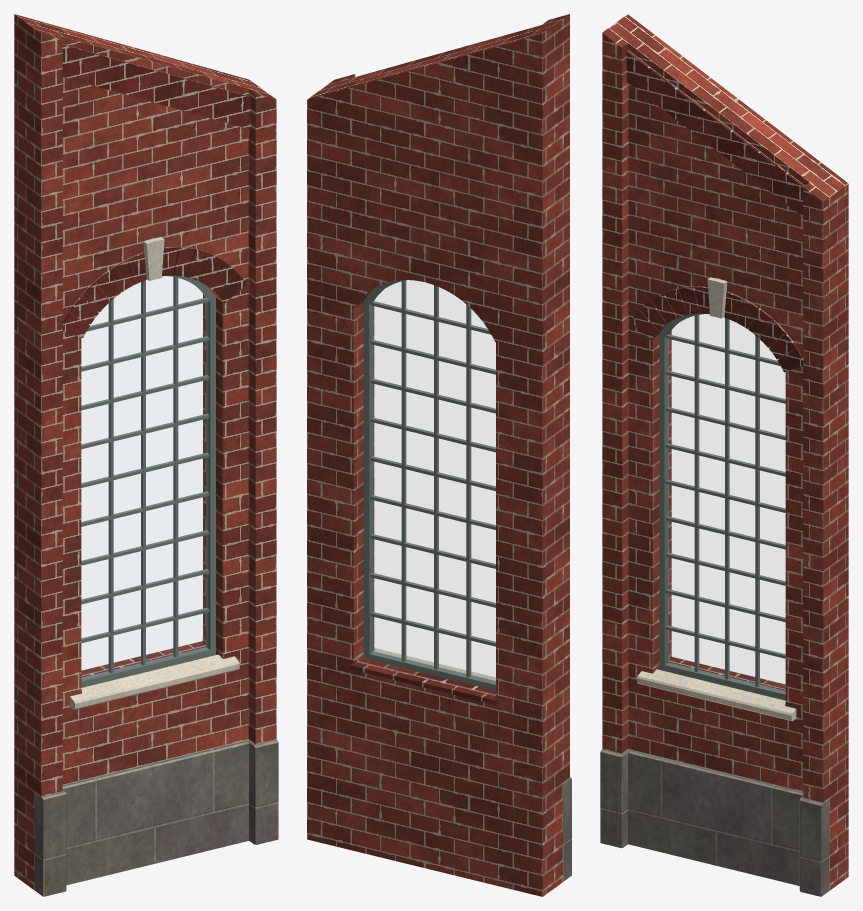
The model's file is h_side_window_r0.glb.
3 views of the same model, side by side, from view 1: azimuth 30°, elevation 25°; view 2: azimuth 150°, elevation 25°; view 3: azimuth 330°, elevation 25° (orthographic). The views are drawn at different scales.
Parts seen in each view (by area): view 1: h_side_window_r0_brick, folha_glass, h_side_window_r0_plinth, folha_wframe, h_side_window_r0_brick2, h_side_window_r0_trim; view 2: h_side_window_r0_brick, folha_glass, folha_wframe, h_side_window_r0_brick2, h_side_window_r0_plinth; view 3: h_side_window_r0_brick, folha_glass, h_side_window_r0_plinth, folha_wframe, h_side_window_r0_brick2, h_side_window_r0_trim.
Boxes of the visible parts, bbox=[...] form: h_side_window_r0_brick: bbox=[14, 14, 276, 890]; folha_glass: bbox=[82, 276, 207, 678]; h_side_window_r0_plinth: bbox=[34, 739, 278, 896]; folha_wframe: bbox=[81, 275, 215, 687]; h_side_window_r0_brick2: bbox=[62, 44, 250, 677]; h_side_window_r0_trim: bbox=[70, 237, 239, 709]; h_side_window_r0_brick: bbox=[307, 14, 569, 896]; folha_glass: bbox=[372, 280, 495, 682]; folha_wframe: bbox=[363, 280, 495, 690]; h_side_window_r0_brick2: bbox=[349, 658, 497, 704]; h_side_window_r0_plinth: bbox=[563, 777, 571, 881]; h_side_window_r0_brick: bbox=[602, 14, 848, 890]; folha_glass: bbox=[667, 314, 784, 691]; h_side_window_r0_plinth: bbox=[600, 749, 829, 896]; folha_wframe: bbox=[659, 313, 785, 700]; h_side_window_r0_brick2: bbox=[626, 50, 804, 690]; h_side_window_r0_trim: bbox=[637, 277, 796, 721].
Bounding box in the file's own units: 2 × 7 × 0.46.
Materials: 6 (4 with a texture image).
